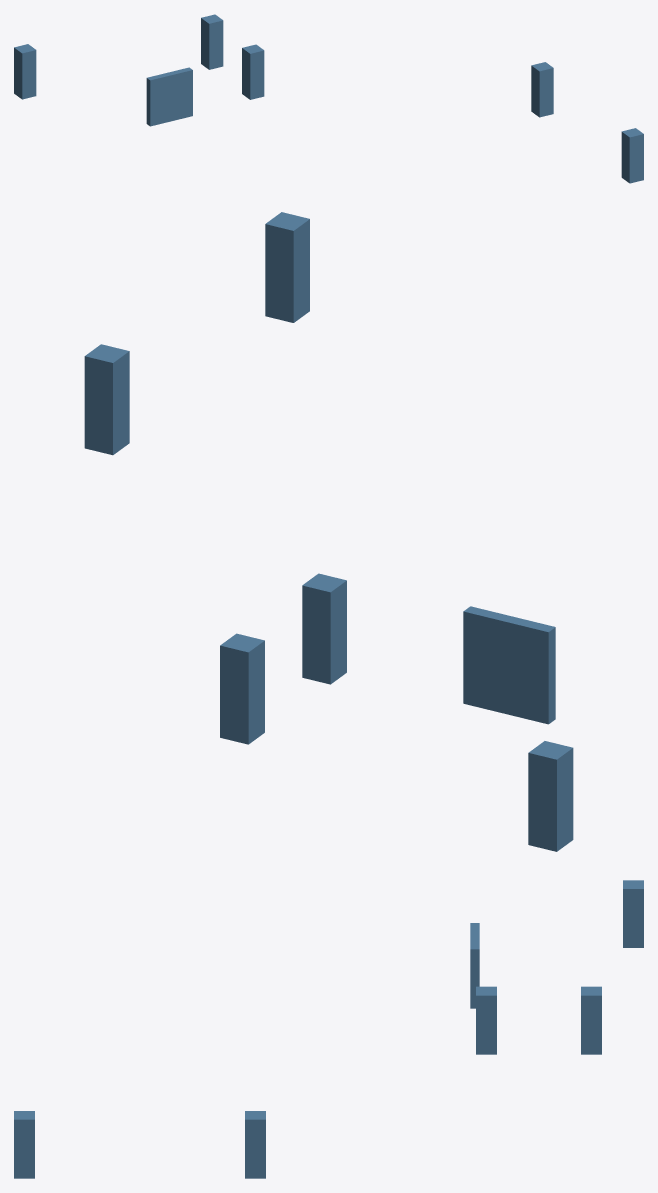
Rendered from Columns_9Floor.fbx.
3 renders of one model, top to bottom at view 1: azimuth 30°, elevation 25°; view 2: azimuth 150°, elevation 25°; view 3: azimuth 270°, elevation 25°, orthographic. The views are drawn at different scales.
Visible parts, largest first — view 1: Column5, Column1, Column3, Column2, Column, Column4; view 2: Column5, Column, Column4, Column1, Column2, Column3; view 3: Column2, Column3, Column, Column1, Column4, Column5.
Boxes of the visible parts, box(x1,y1,x2,y2) form: Column5: box(146, 67, 192, 126); Column1: box(621, 128, 643, 183); Column3: box(201, 14, 223, 69); Column2: box(242, 44, 264, 99); Column: box(531, 62, 553, 117); Column4: box(14, 44, 36, 99); Column5: box(463, 606, 555, 724); Column: box(84, 344, 129, 455); Column4: box(528, 741, 573, 851); Column1: box(265, 212, 309, 322); Column2: box(302, 573, 346, 684); Column3: box(220, 633, 264, 744); Column2: box(476, 986, 496, 1054); Column3: box(581, 986, 601, 1054); Column: box(245, 1111, 265, 1178); Column1: box(14, 1111, 34, 1178); Column4: box(623, 880, 643, 947); Column5: box(470, 923, 479, 1008).
Bounding box in the file's own units: 2700 × 310 × 3000.
